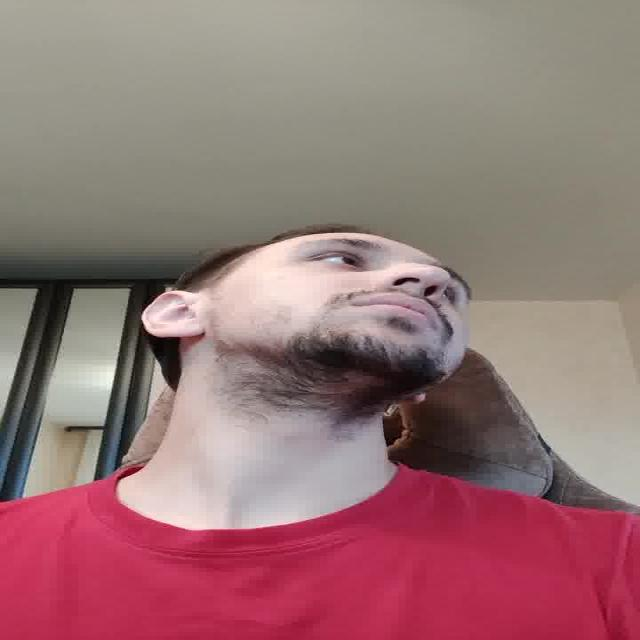earlobe: (156, 325, 209, 340), (407, 392, 431, 406)
eye: (309, 250, 366, 269), (444, 280, 462, 305)
nose: (382, 280, 444, 302)
wholeear: (143, 291, 210, 340)
